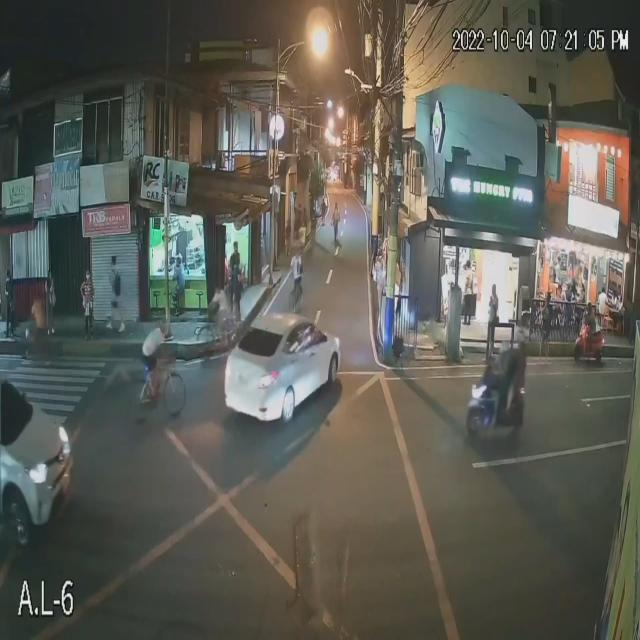Full-Faced: (585, 302, 593, 317)
